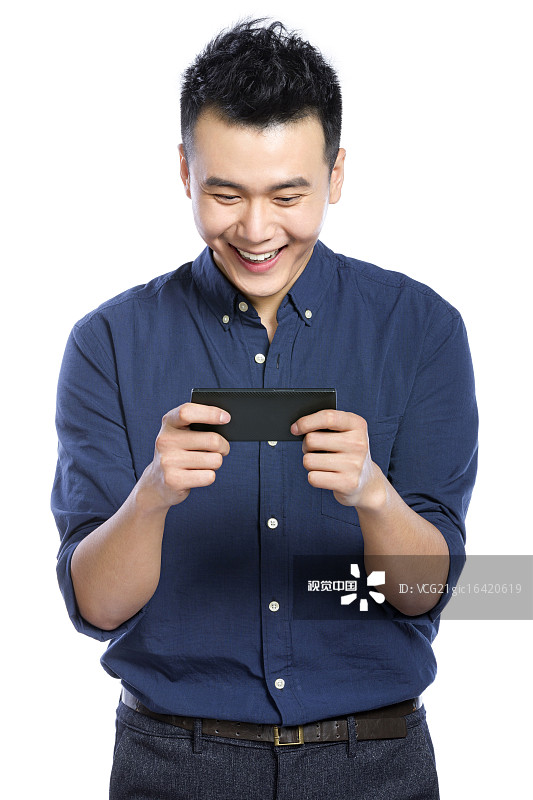reading: (126, 372, 442, 547)
